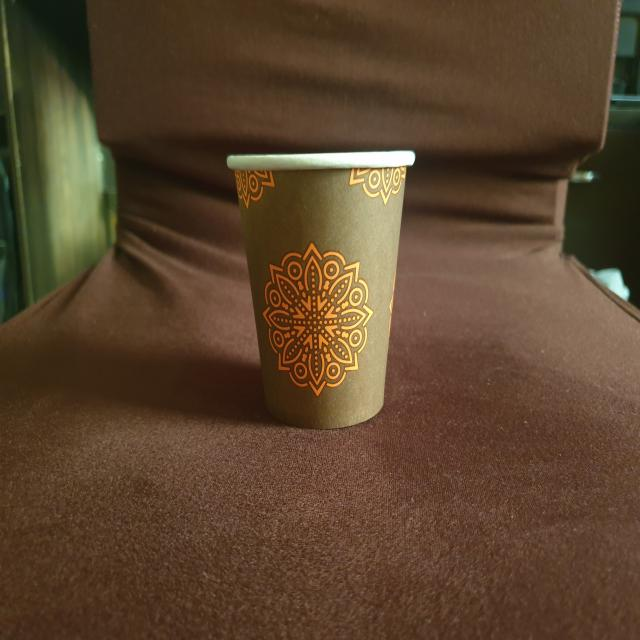cups: (223, 140, 422, 437)
